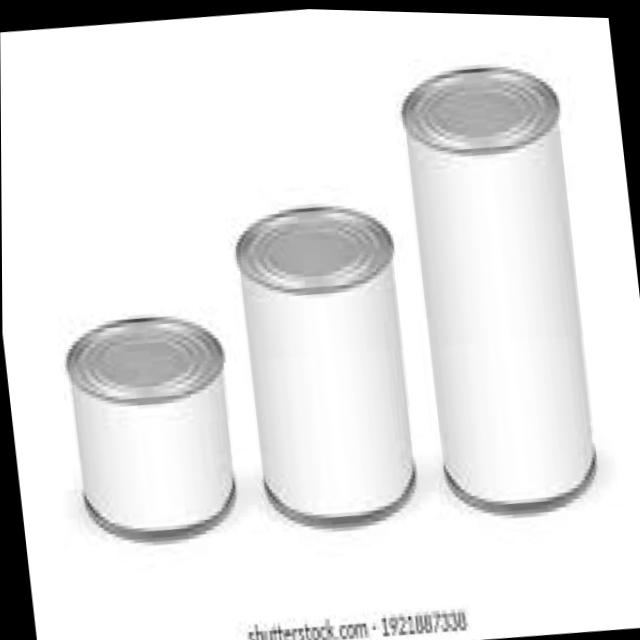Lata: (392, 55, 603, 521)
